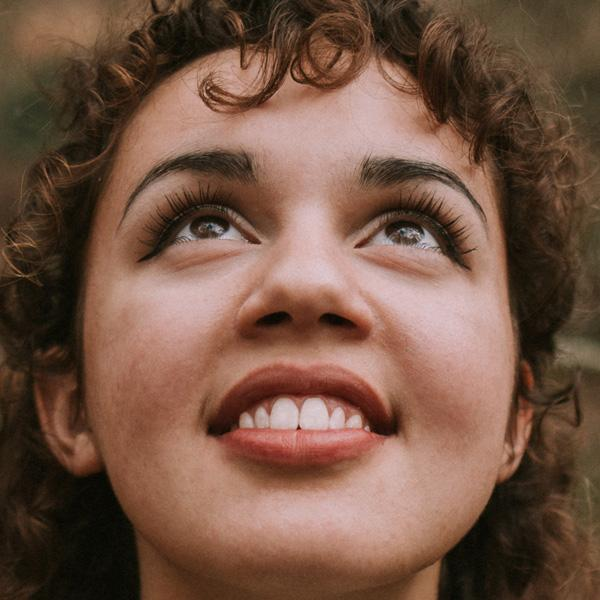Eyes: (340, 194, 471, 274), (139, 191, 278, 266)
